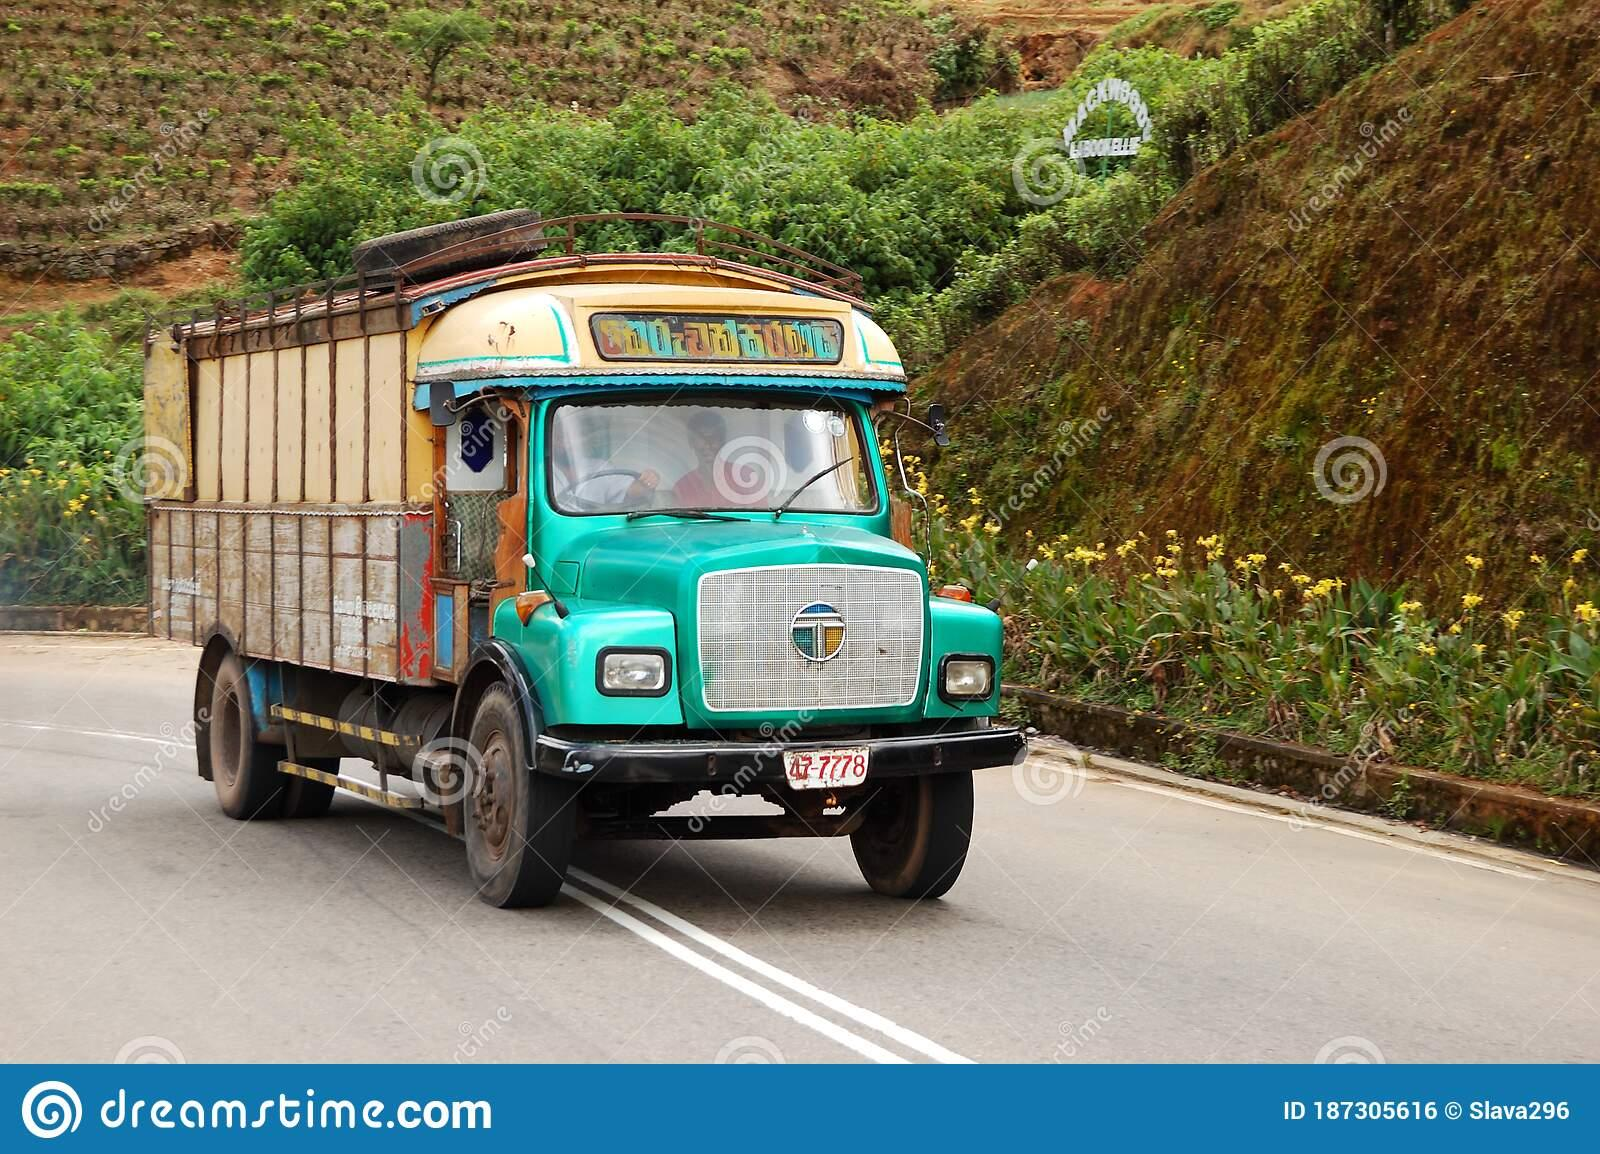truck: (140, 207, 1031, 911)
